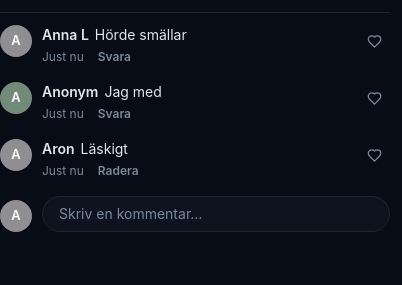
it: comments › can be answered, also when the writer has no name
Expected: the text "Anna L" is shown, [42, 26, 89, 43]
Expected: the button with aria-label "Svara Anonym" is shown, [98, 105, 131, 123]
Click the button with aria-label "Svara Anna L" at (114, 57), box [98, 48, 131, 66]
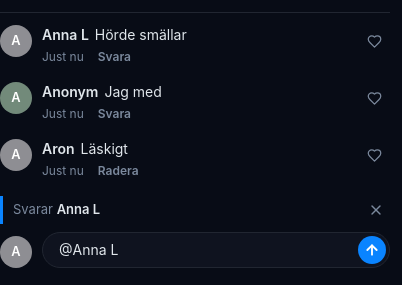
Result: the text box named "Kommentar" holds "@Anna L " at [59, 236, 350, 264]
Result: the text "Svarar Anna L" is shown at [13, 201, 100, 217]
Click the button named "Avbryt svaret" at (376, 210), box [362, 196, 390, 224]
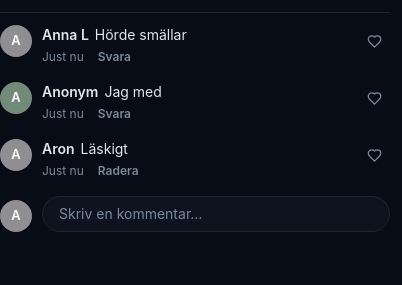
Result: the text box labelled "kommentar" is empty at [59, 200, 350, 228]
Click the button with aria-label "Svara Anonym" at (114, 114), box [98, 105, 131, 123]
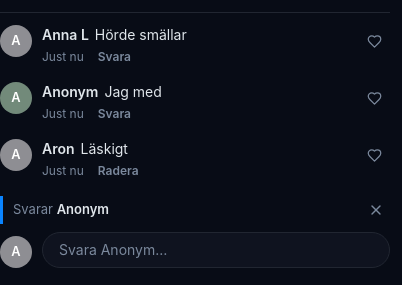
Result: the text box named "Kommentar" is empty
Type "Var då?" into the text box named "Kommentar" at (204, 250), box [59, 236, 350, 264]
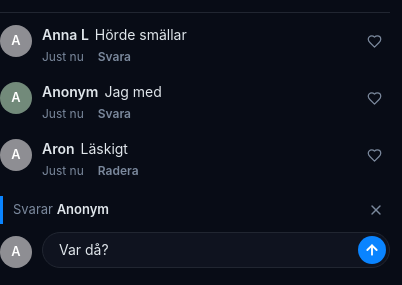
Click the button named "Skicka" at (372, 250), box [358, 236, 386, 264]
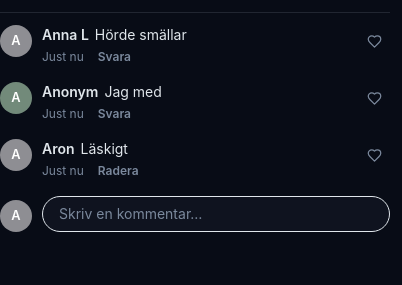
Result: the text "Svarar" is gone
